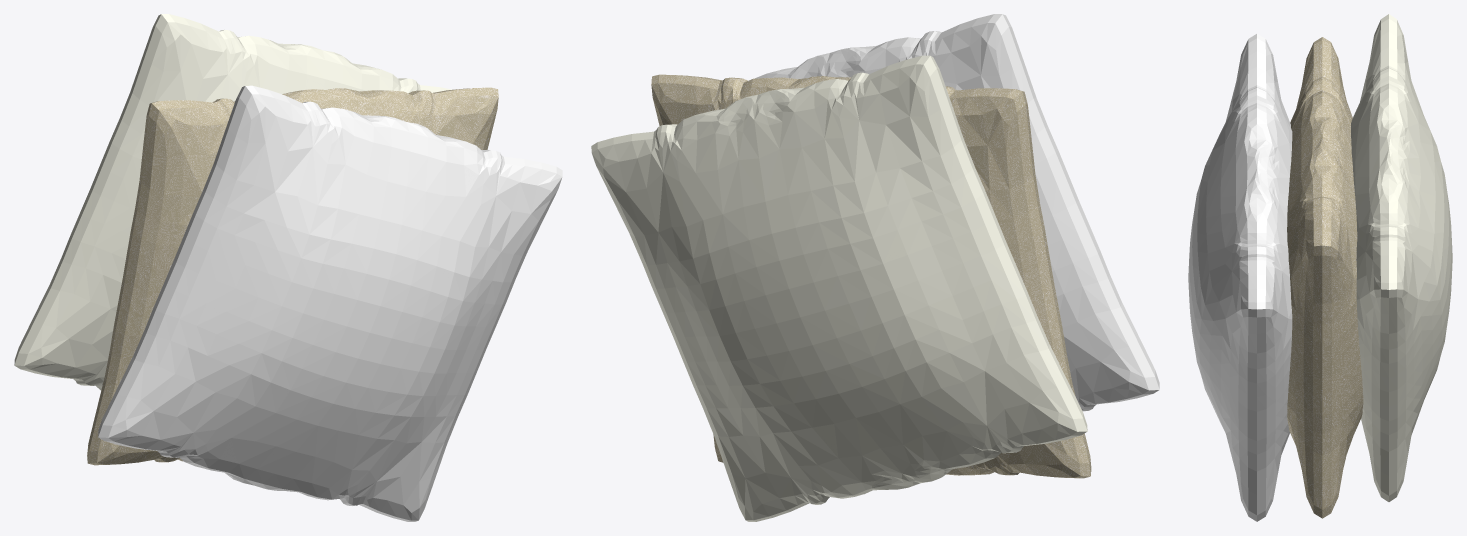
3 views of the same model, side by side, from view 1: azimuth 30°, elevation 25°; view 2: azimuth 150°, elevation 25°; view 3: azimuth 270°, elevation 25° (orthographic). The views are drawn at different scales.
Visible parts, largest first — view 1: pillow stack; view 2: pillow stack; view 3: pillow stack.
Boxes of the visible parts, box(x1,y1,x2,y2) form: pillow stack: box(14, 14, 562, 521); pillow stack: box(591, 14, 1159, 521); pillow stack: box(1188, 14, 1452, 521).
Bounding box in the file's own units: 21.92 × 21.98 × 12.19.
